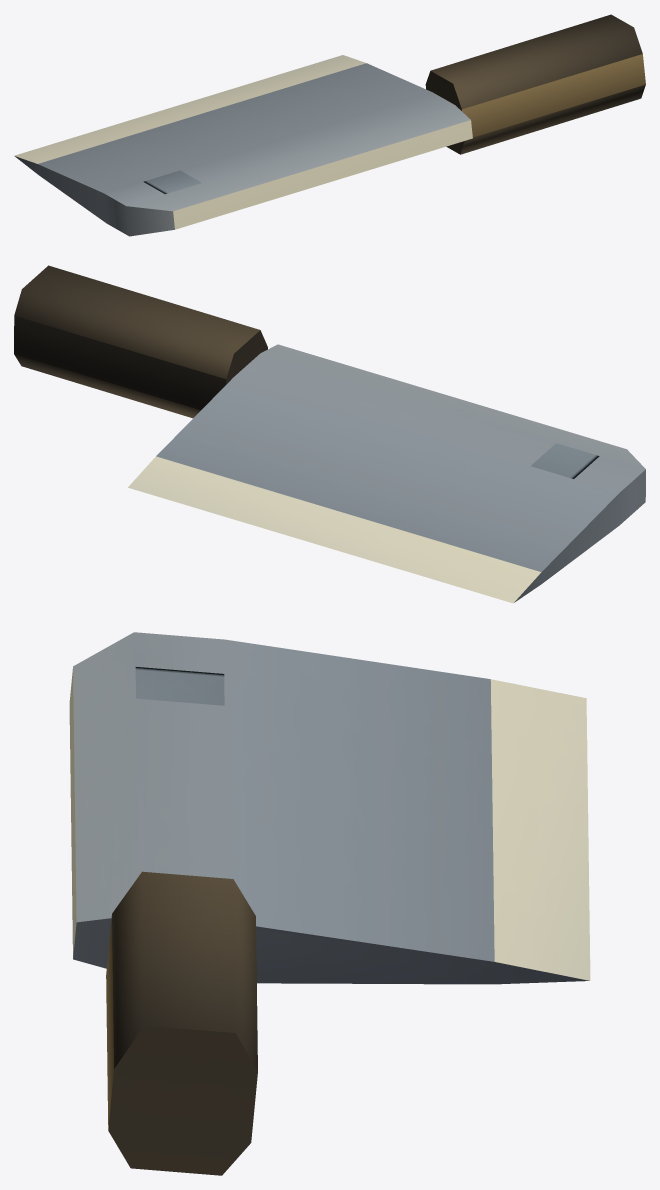
File: cleaver_lying_flat.fbx
3 renders of one model, top to bottom at view 1: azimuth 30°, elevation 25°; view 2: azimuth 150°, elevation 25°; view 3: azimuth 270°, elevation 25°, orthographic. The views are drawn at different scales.
Parts seen in each view (by area): view 1: cleaver_lying_flat; view 2: cleaver_lying_flat; view 3: cleaver_lying_flat.
Boxes of the visible parts, x1,y1,x2,y2 form: cleaver_lying_flat: (14, 14, 645, 236); cleaver_lying_flat: (14, 265, 645, 603); cleaver_lying_flat: (69, 632, 590, 1175).
Bounding box in the file's own units: 55.17 × 8.87 × 24.21.
